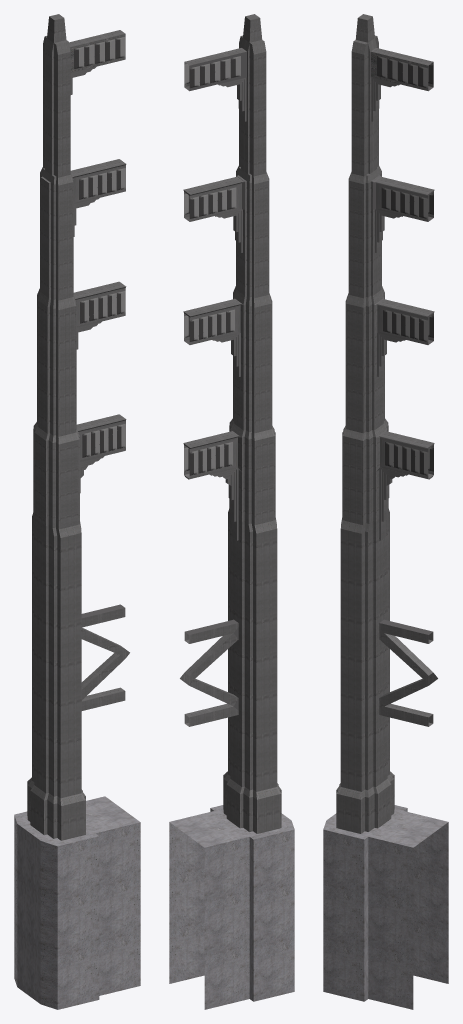
File: ggbrig_01_sfw.obj
3 renders of one model, left to right at view 1: azimuth 30°, elevation 25°; view 2: azimuth 210°, elevation 25°; view 3: azimuth 330°, elevation 25°, orthographic.
Visible parts, largest first — view 1: ggbrig_01_sfw; view 2: ggbrig_01_sfw; view 3: ggbrig_01_sfw.
Boxes of the visible parts, x1,y1,x2,y2 form: ggbrig_01_sfw: (14,14,140,1009); ggbrig_01_sfw: (169,14,294,1009); ggbrig_01_sfw: (323,14,448,1009).
Bounding box in the file's own units: 28.53 × 268 × 21.7.
3 materials, 3 textured.
